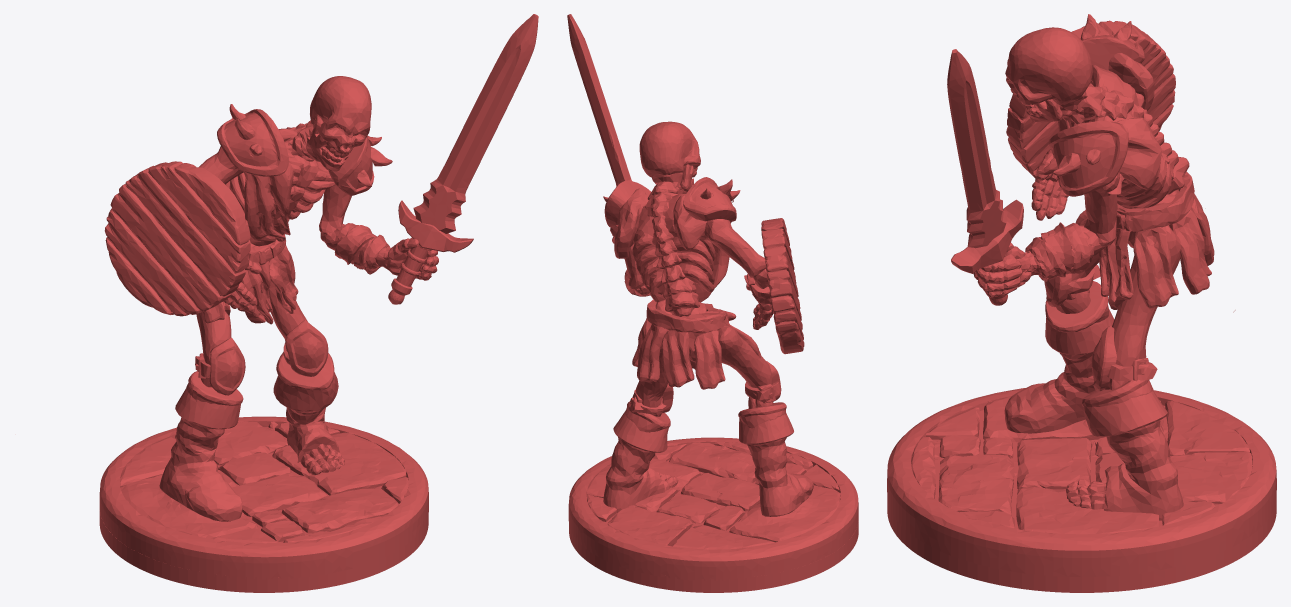
The model's file is skeleton.glb.
3 renders of one model, left to right at view 1: azimuth 30°, elevation 25°; view 2: azimuth 150°, elevation 25°; view 3: azimuth 270°, elevation 25°, orthographic. The views are drawn at different scales.
Parts seen in each view (by area): view 1: skeleton; view 2: skeleton; view 3: skeleton.
Boxes of the visible parts, x1=… form: skeleton: x1=99, y1=14, x2=538, y2=592; skeleton: x1=567, y1=14, x2=858, y2=592; skeleton: x1=887, y1=14, x2=1276, y2=592.
Bounding box in the file's own units: 44.1 × 52 × 31.31.
